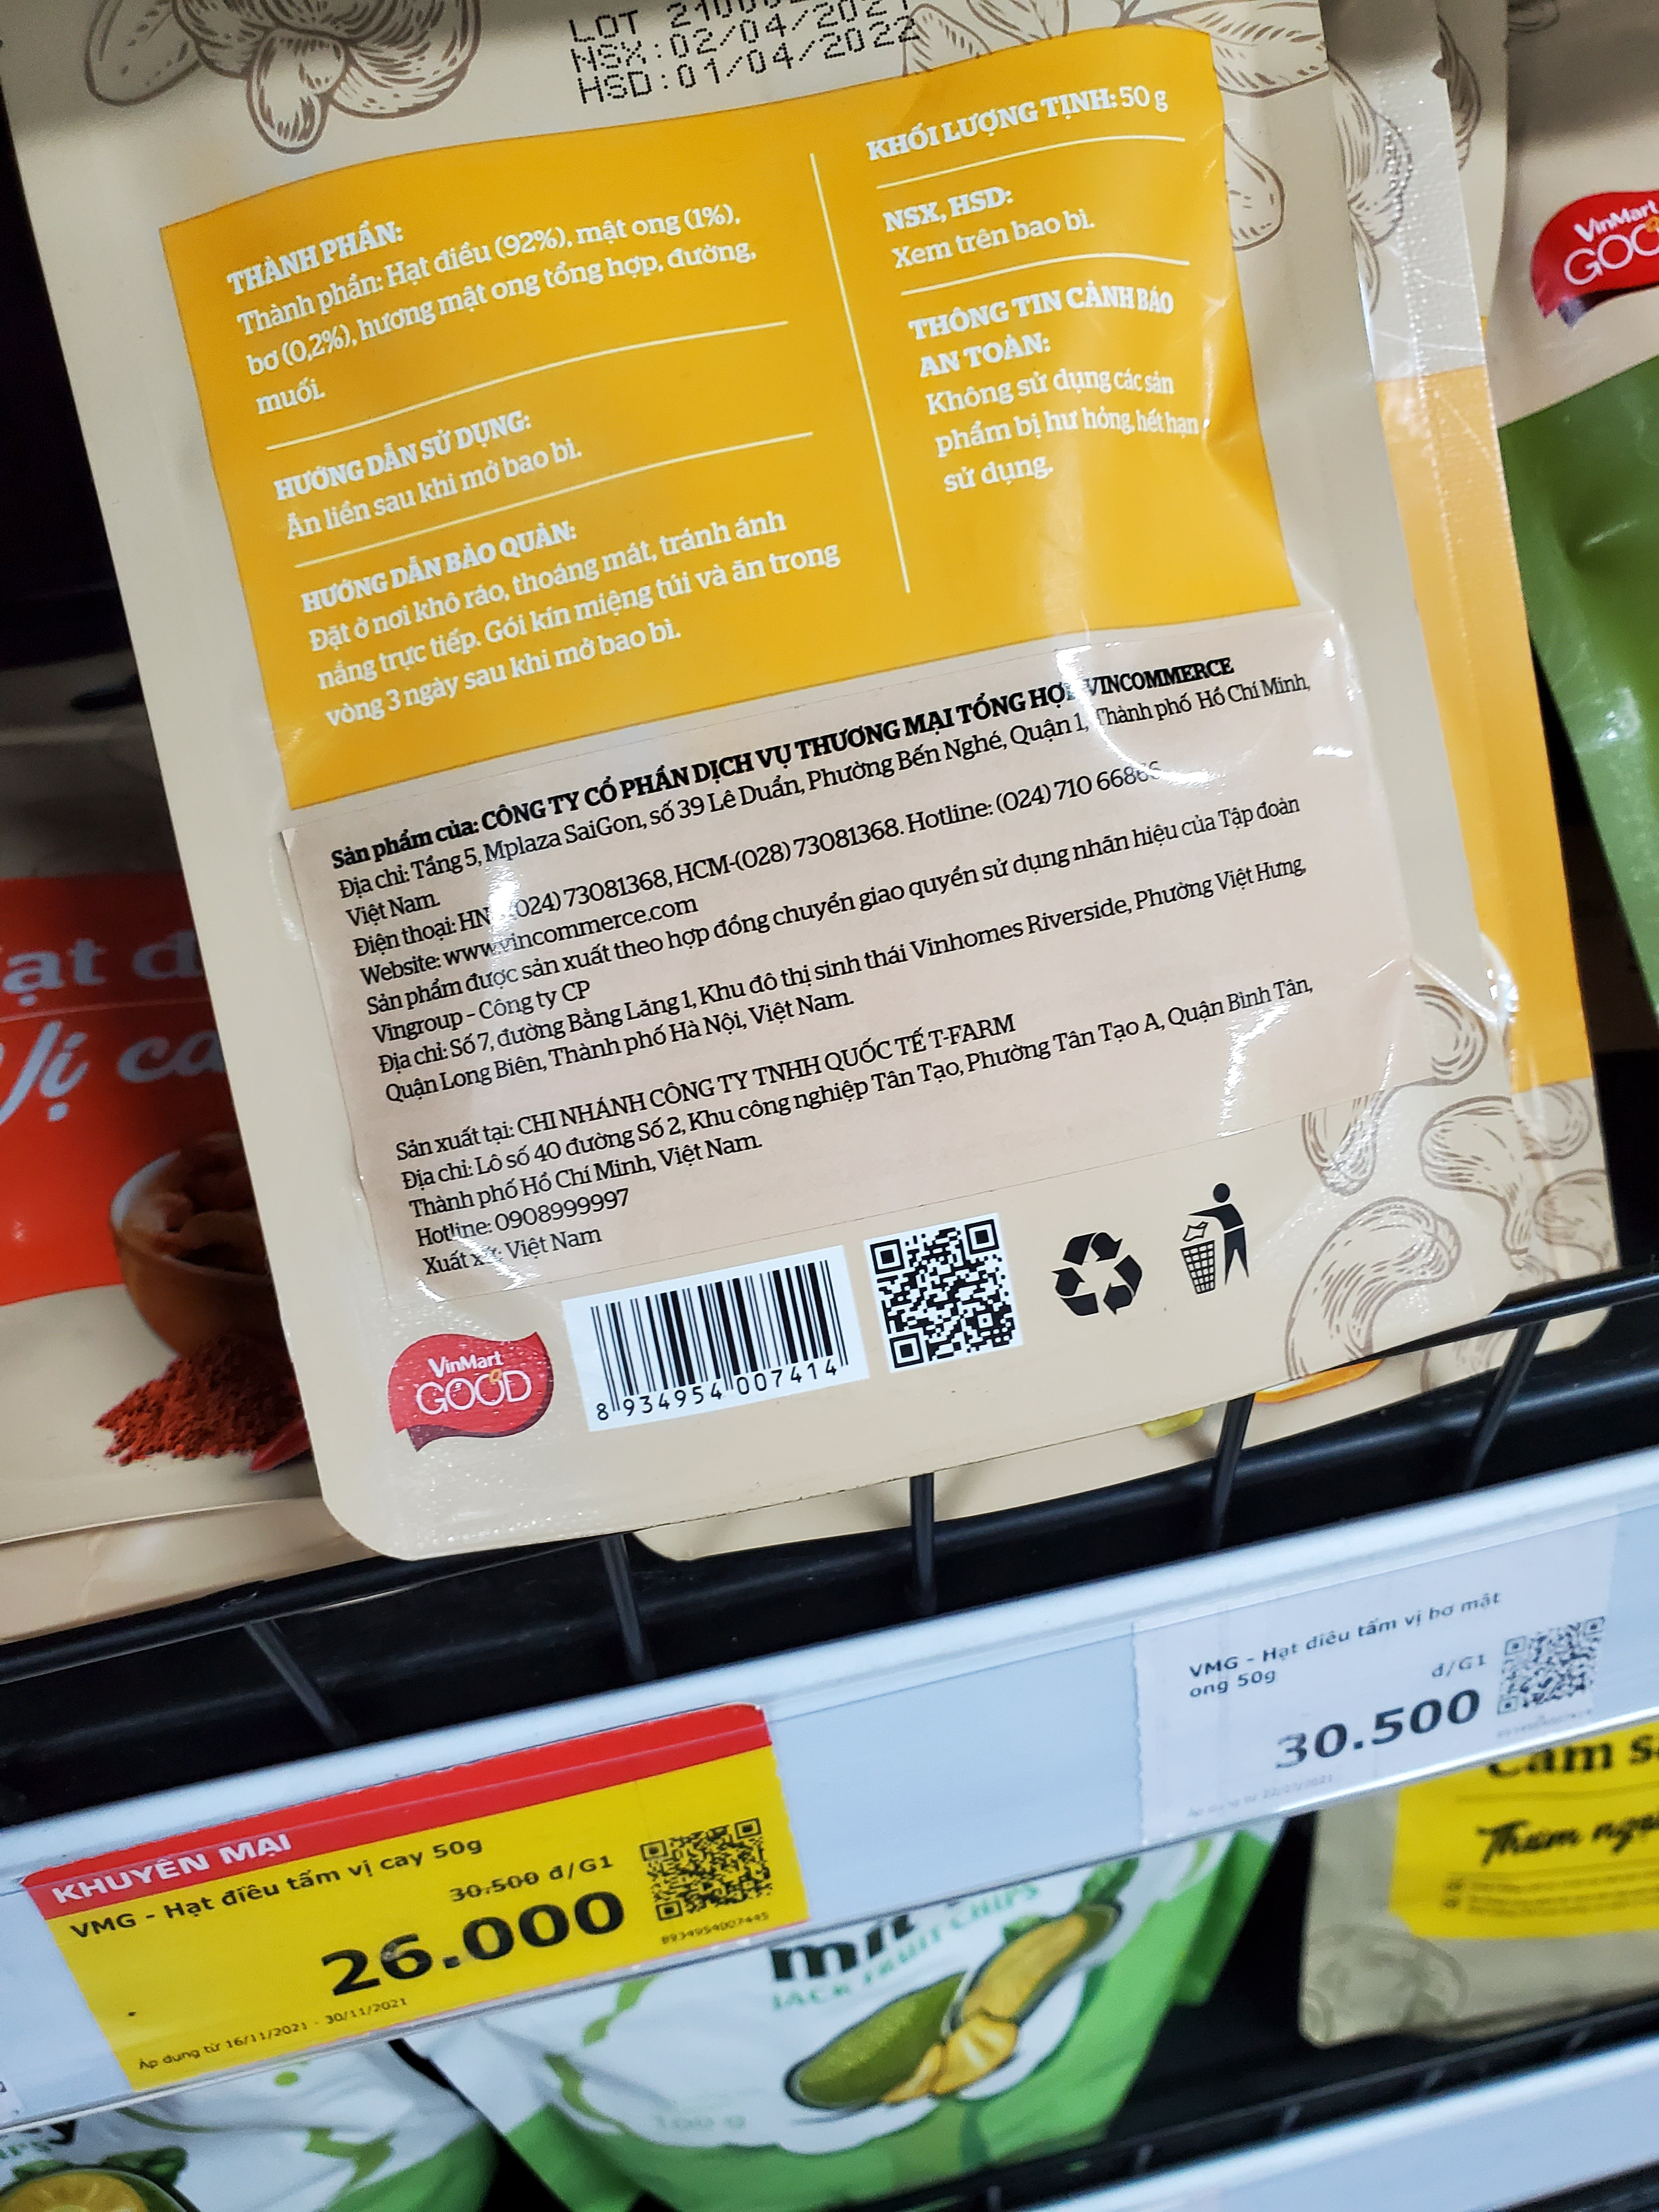barcode: (538, 1245, 871, 1430)
qr code: (857, 1188, 1042, 1406)
